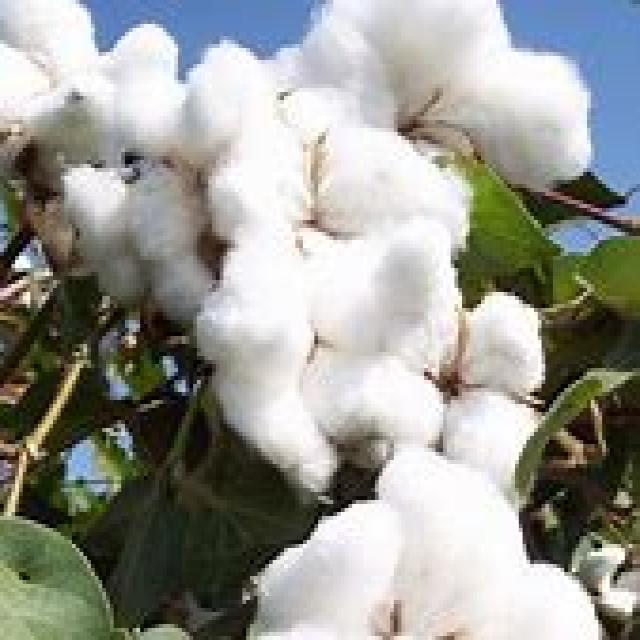Matured Cotton Boll: (274, 0, 592, 247), (258, 463, 600, 640), (192, 230, 422, 453), (353, 246, 540, 500), (104, 39, 282, 247), (0, 0, 137, 180)
